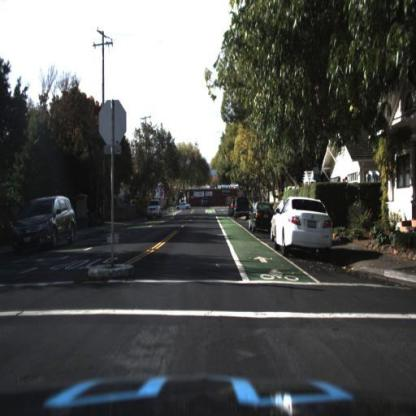car: (11, 187, 77, 253), (275, 194, 335, 261), (248, 203, 272, 237), (145, 203, 164, 226), (236, 197, 253, 222), (174, 198, 194, 214)
